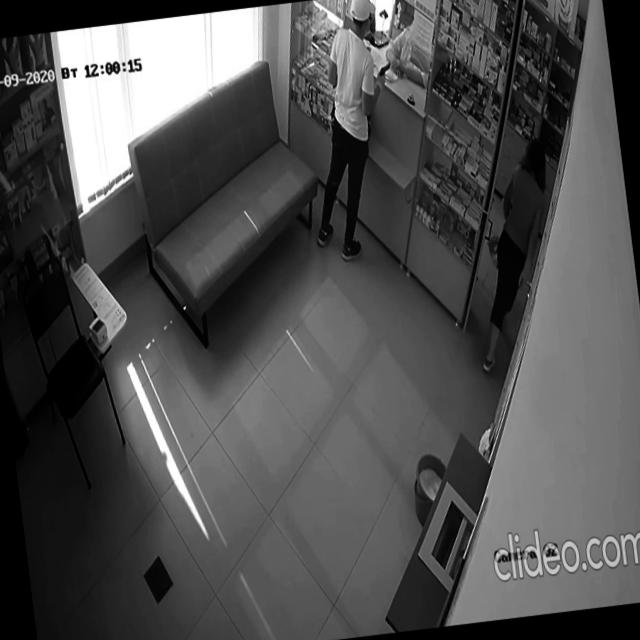gun: (377, 60, 392, 77)
person: (452, 134, 573, 373)
person with a gun: (287, 0, 414, 265)
